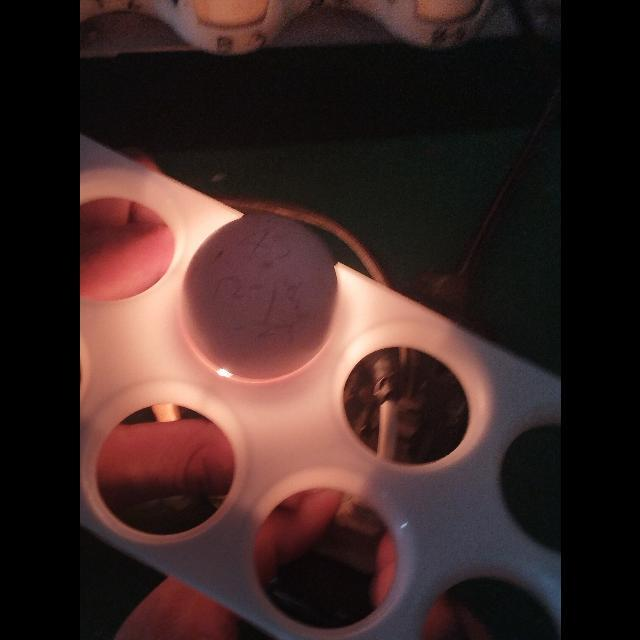B - Fair: (180, 212, 340, 382)
